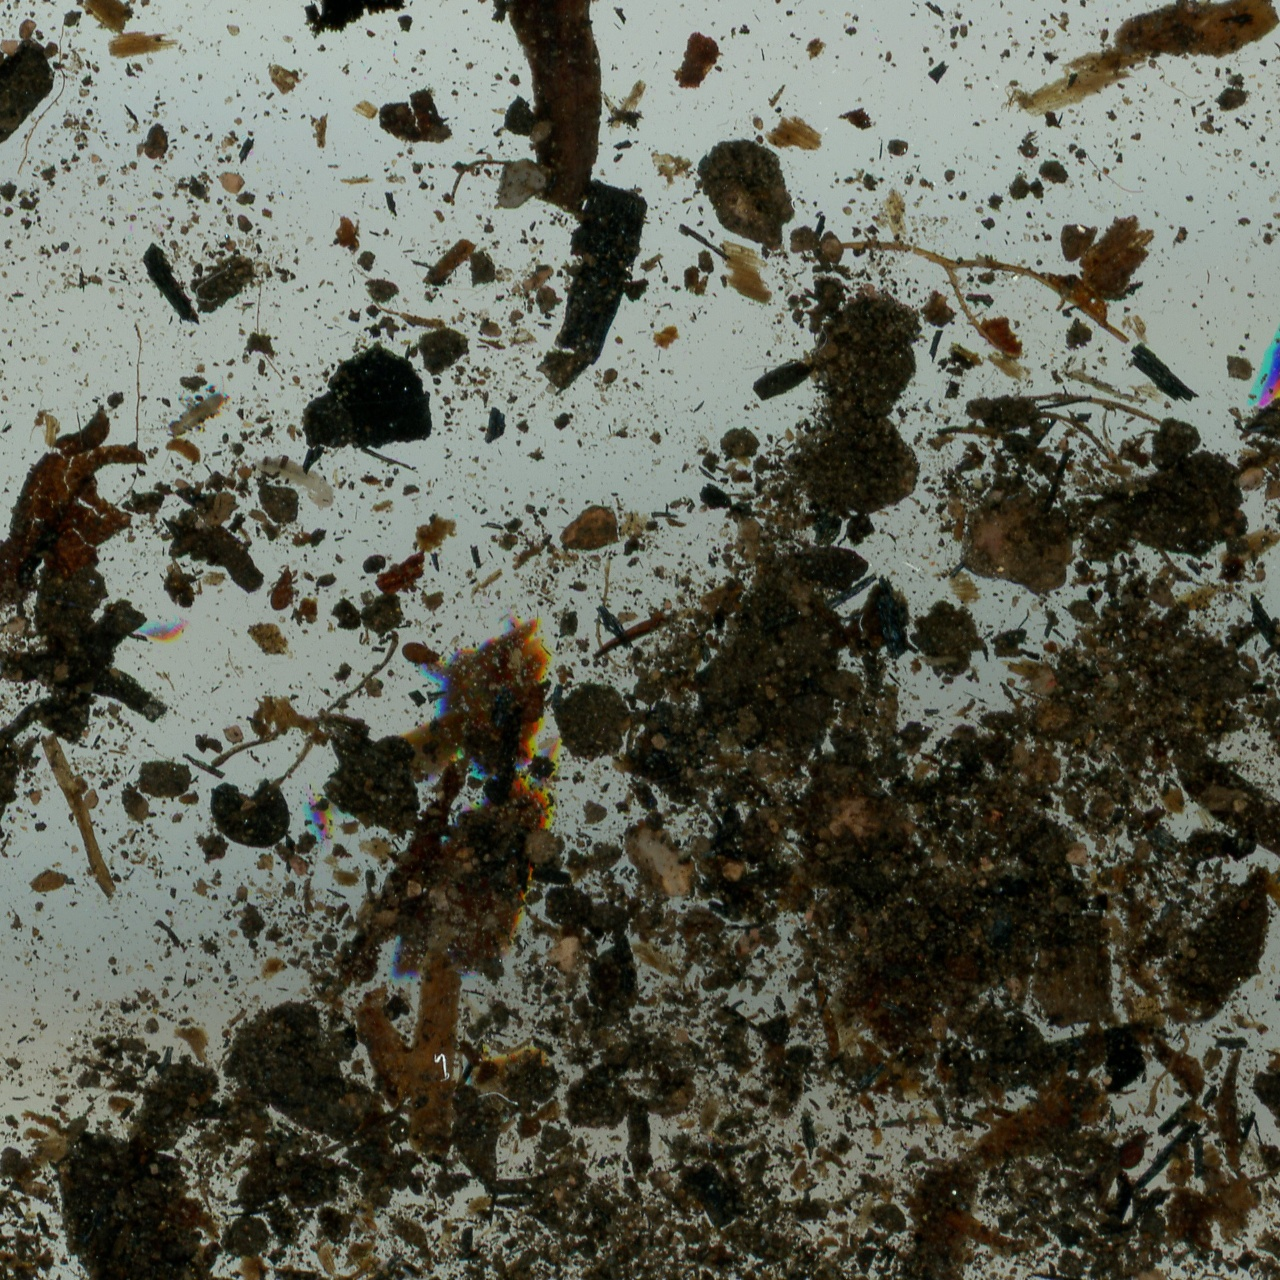arthropod: (1112, 1130, 1156, 1171), (510, 260, 558, 295)
